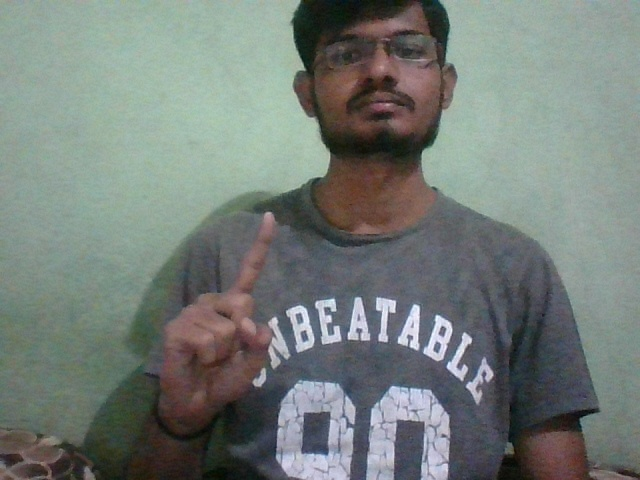where: (157, 212, 299, 400)
